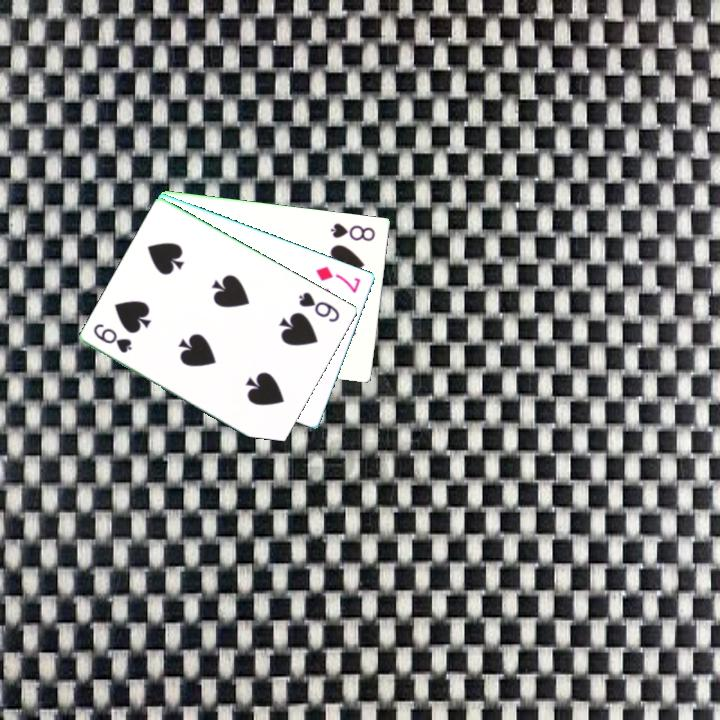6s: (295, 288, 343, 325), (90, 320, 135, 356)
7d: (313, 262, 364, 296)
8s: (327, 219, 378, 244)
